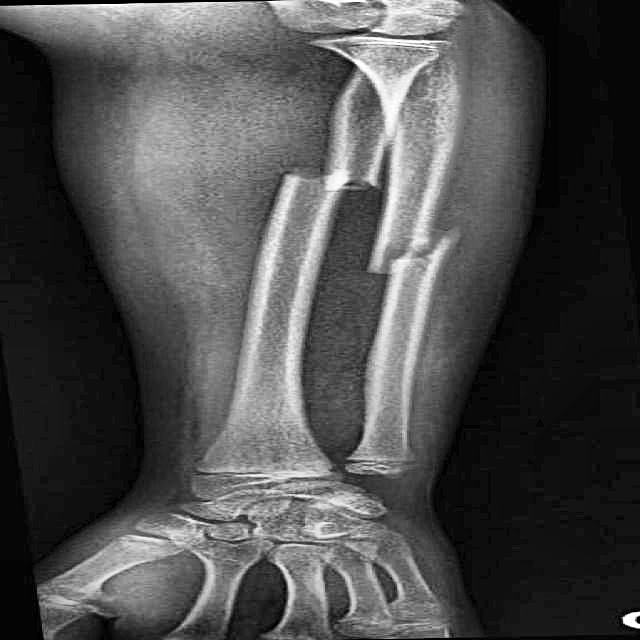Oblique Displaced: (330, 217, 499, 291)
Transverse: (241, 155, 409, 206)
